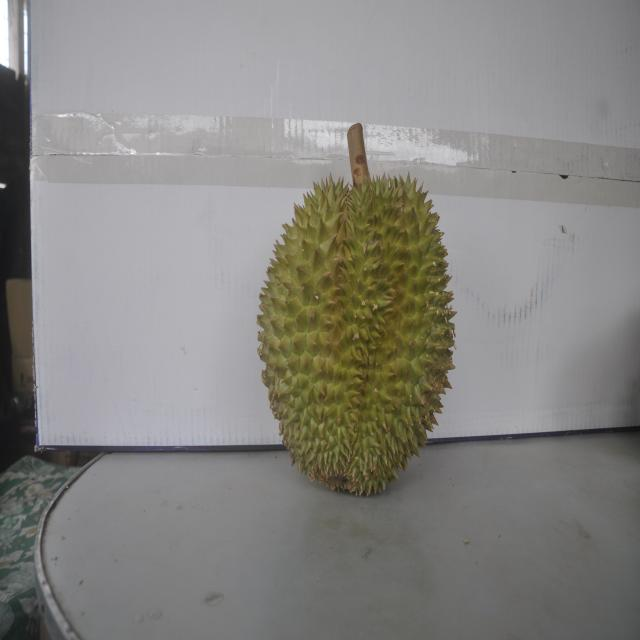mature: (258, 145, 452, 496)
